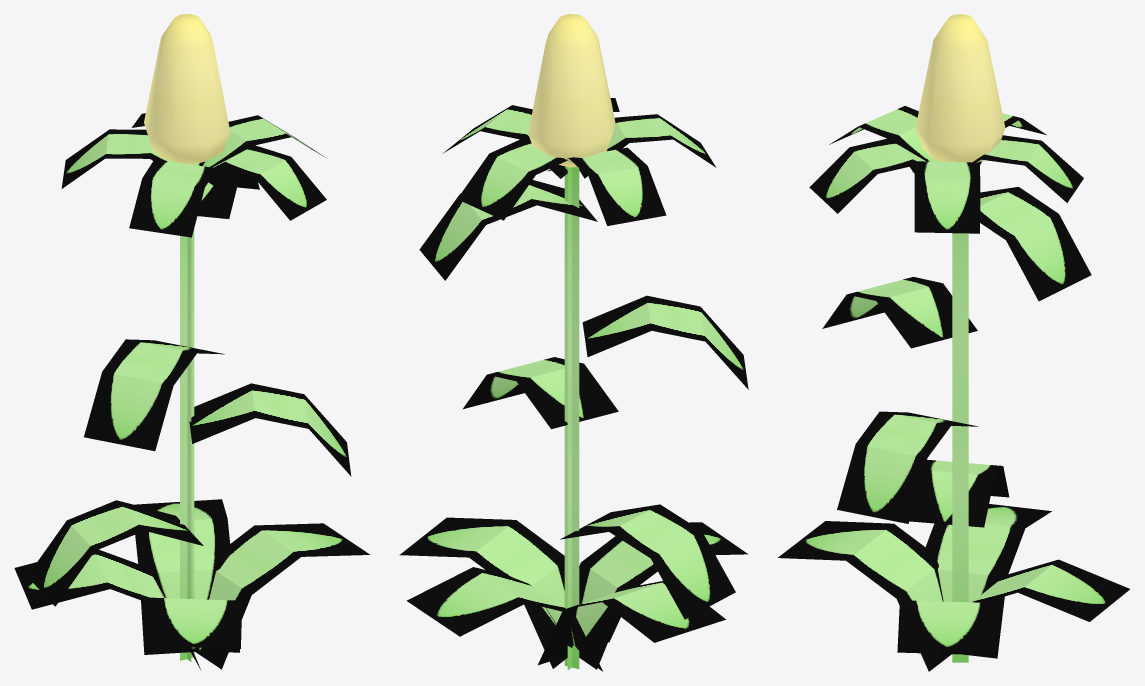
File: corn_01.glb
3 views of the same model, side by side, from view 1: azimuth 30°, elevation 25°; view 2: azimuth 150°, elevation 25°; view 3: azimuth 270°, elevation 25° (orthographic).
Visible parts, largest first — view 1: Corn; view 2: Corn; view 3: Corn.
Boxes of the visible parts, x1,y1,x2,y2 form: Corn: (14,14,369,669); Corn: (399,14,748,671); Corn: (778,14,1129,671).
Bounding box in the file's own units: 1.81 × 3.6 × 1.79.
Materials: 1 (1 with a texture image).
